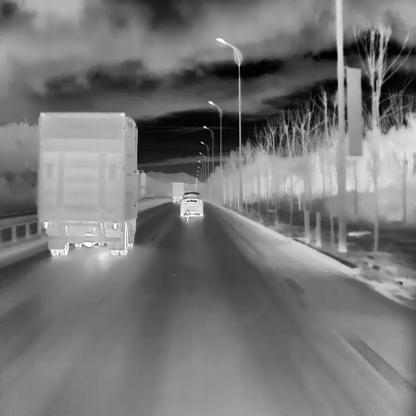car: (180, 191, 202, 216)
truck: (37, 111, 145, 255), (172, 181, 182, 202)
